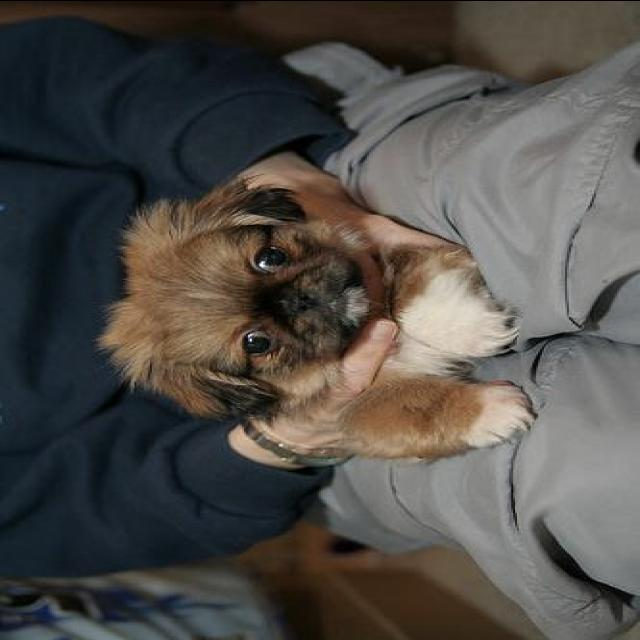pekinese: (94, 180, 534, 460)
